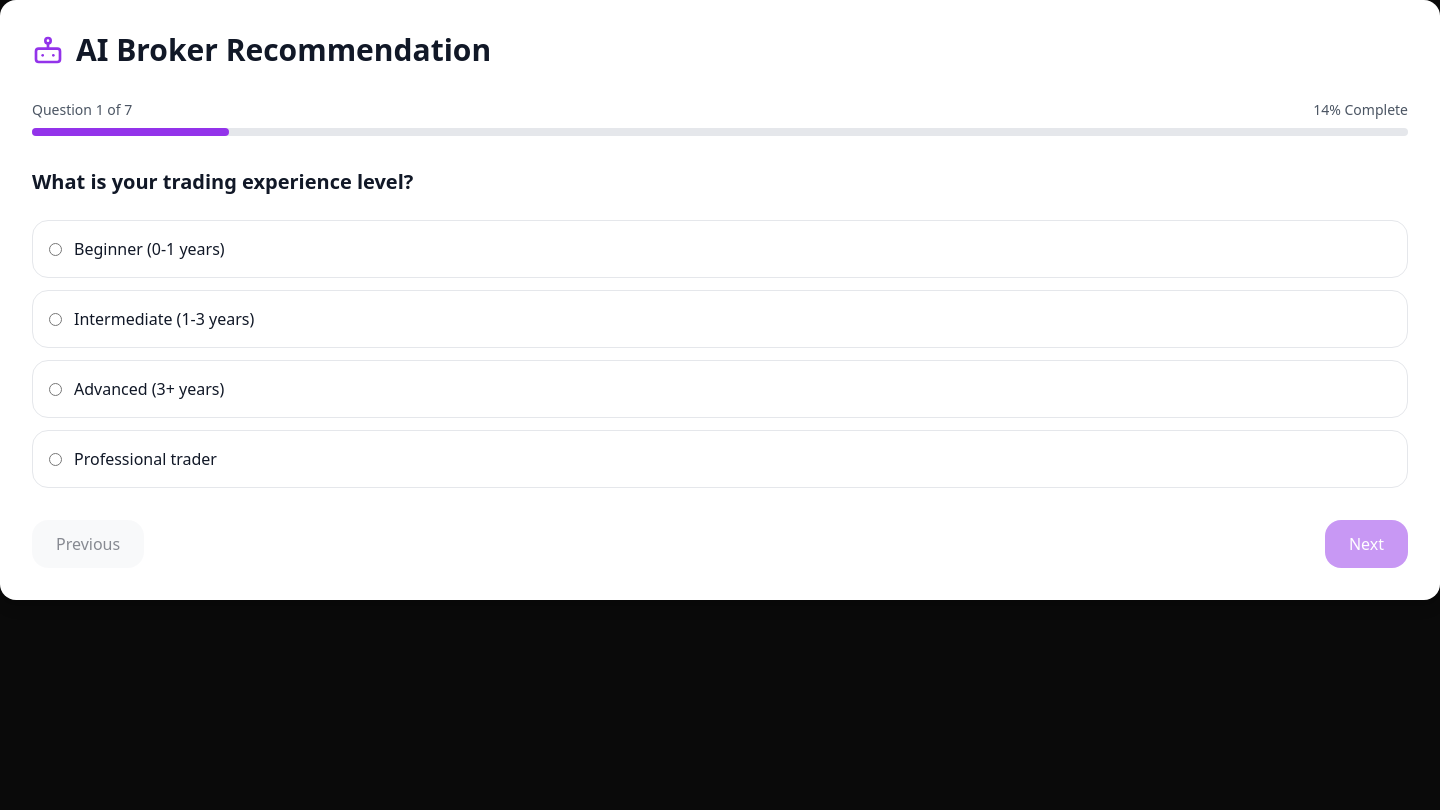
Test: AIAssistantComponent › Question Navigation › can navigate back to previous question
Click the radio button labelled "Beginner (0-1 years)" at coordinates (56, 249), box [49,242,62,256]
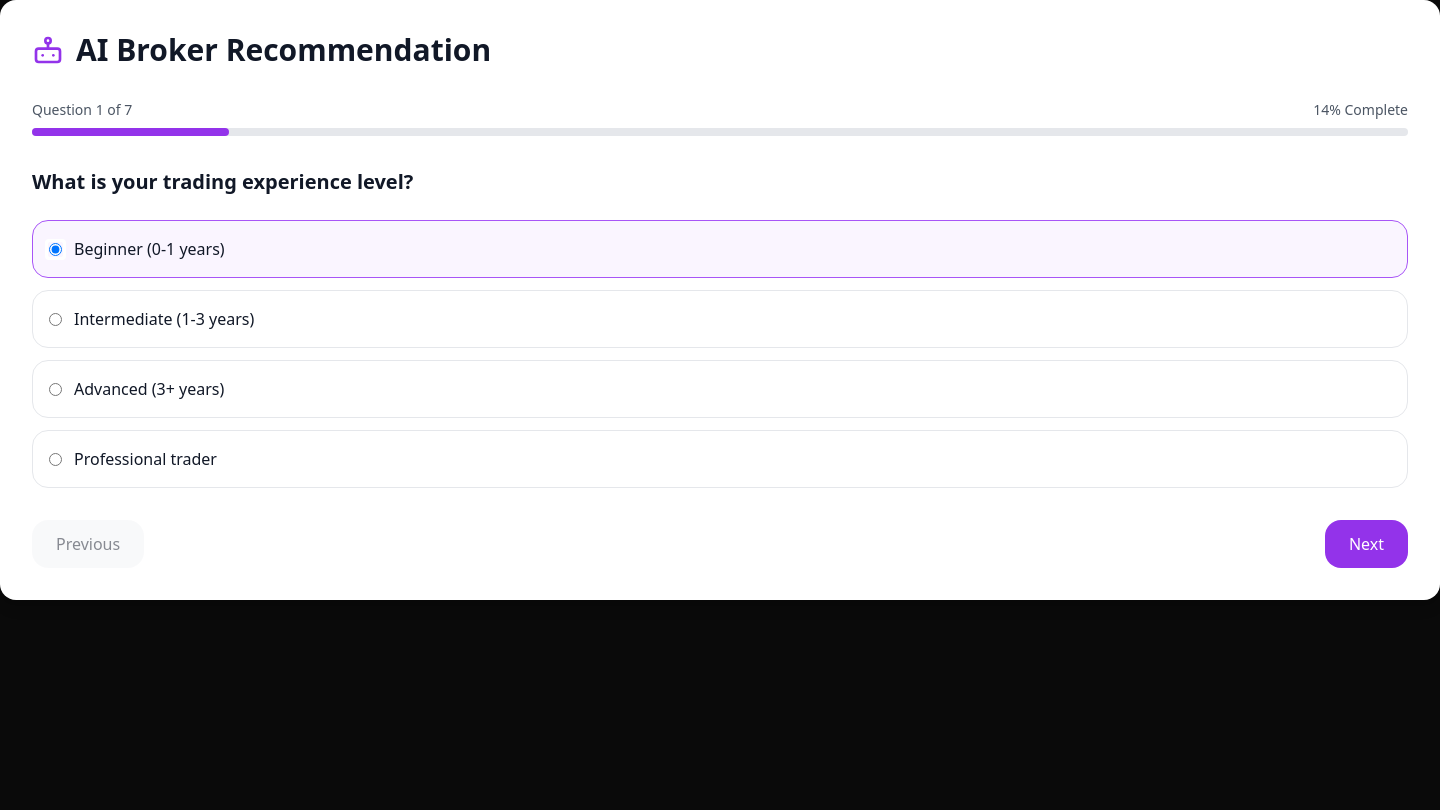
Click the button "Next" at coordinates (1366, 544), box [1325,520,1408,568]
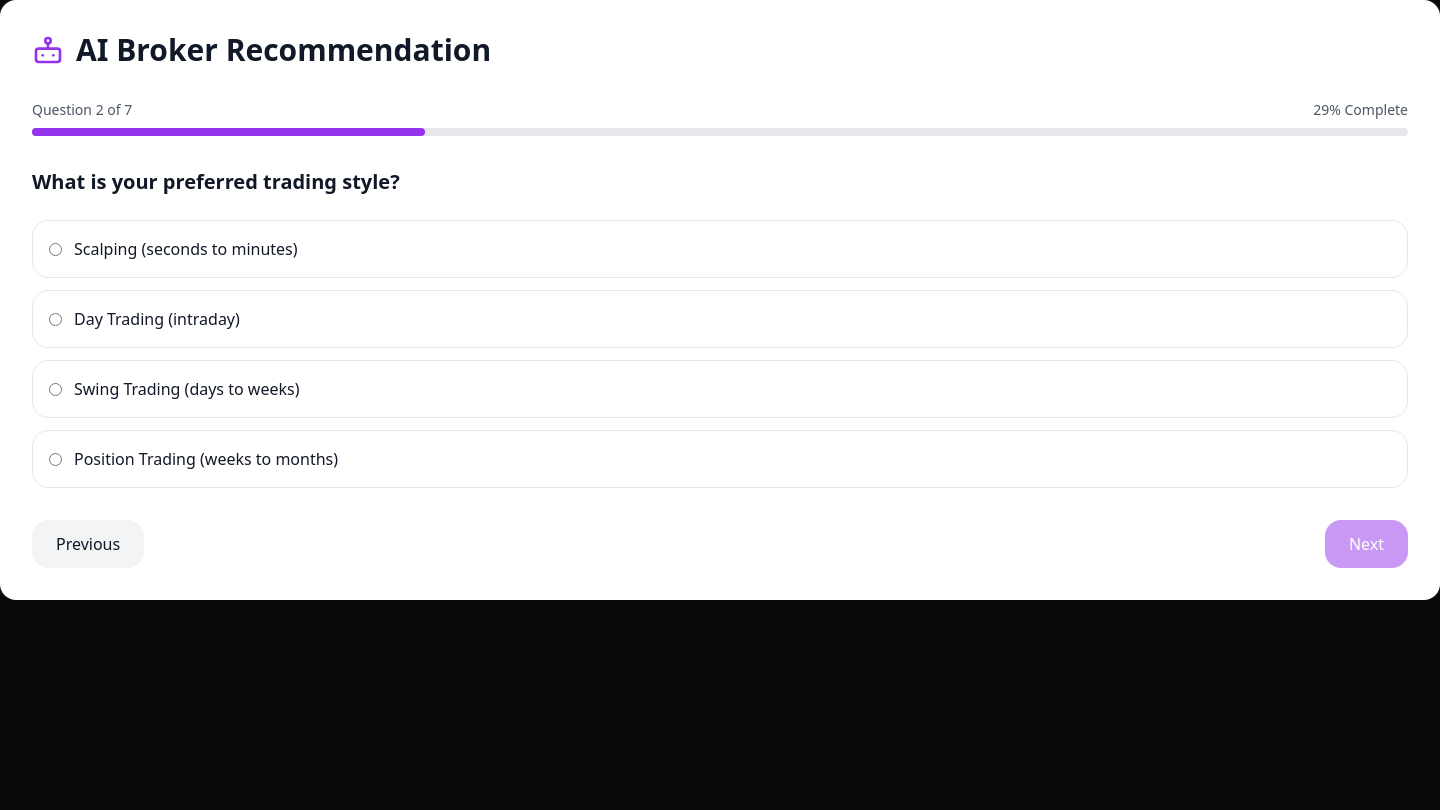
Note: Navigate back
Click the button "Previous" at coordinates (88, 544), box [32,520,144,568]
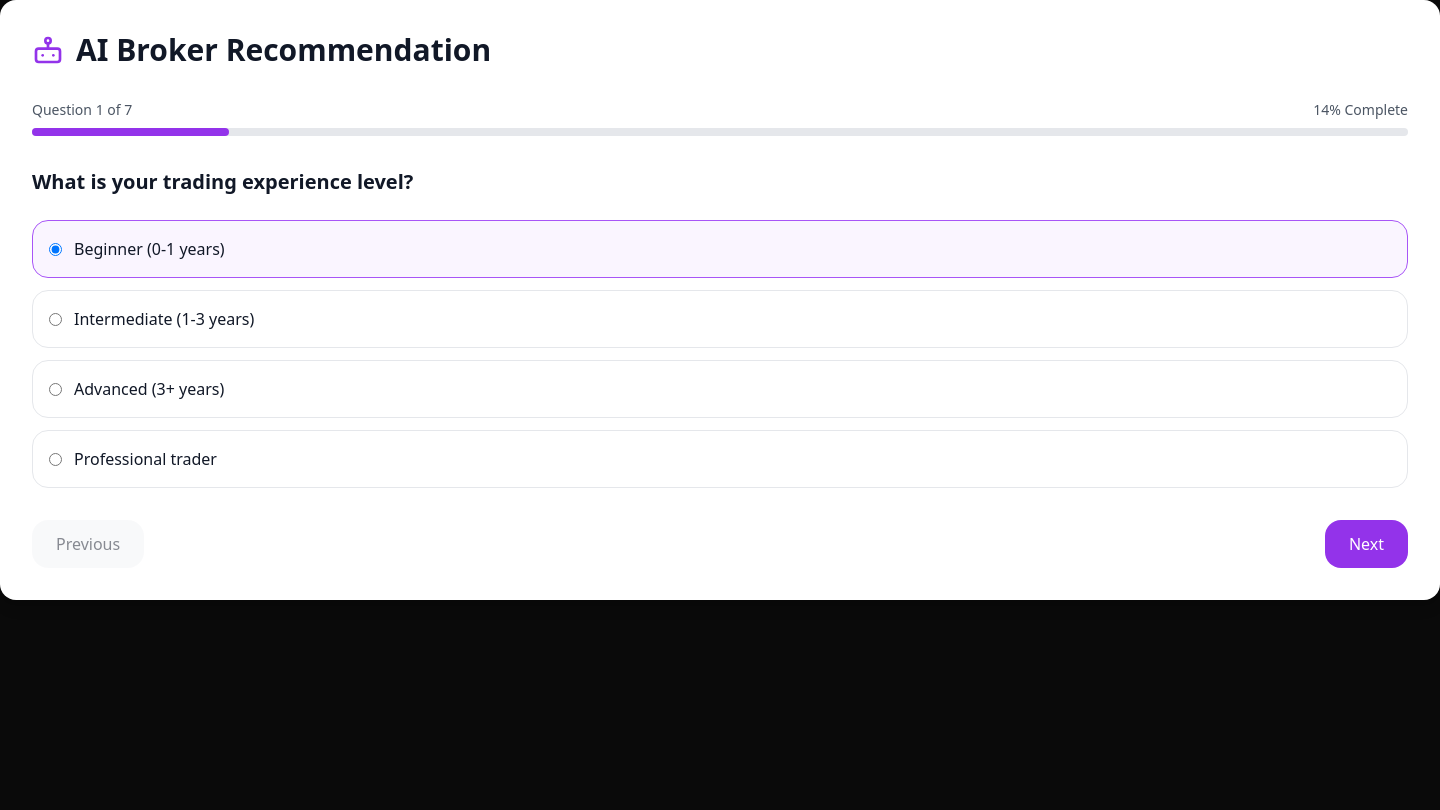
Expected: the text "Question 1 of 7" is shown, [32,100,132,120]
Expected: the heading "What is your trading experience level?" is shown, [32,168,413,195]
